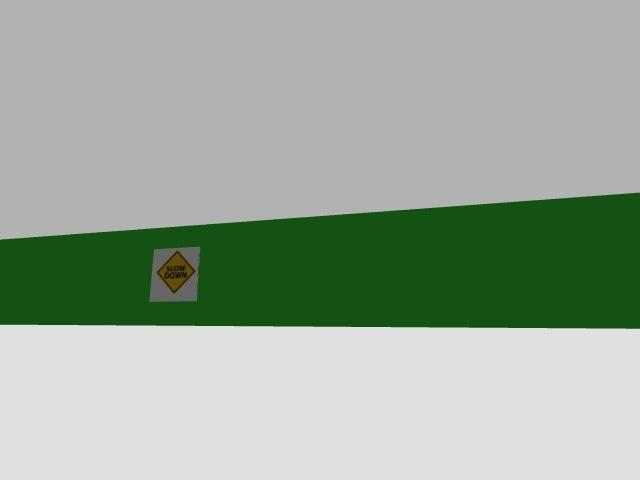slowsign: (150, 247, 199, 301)
